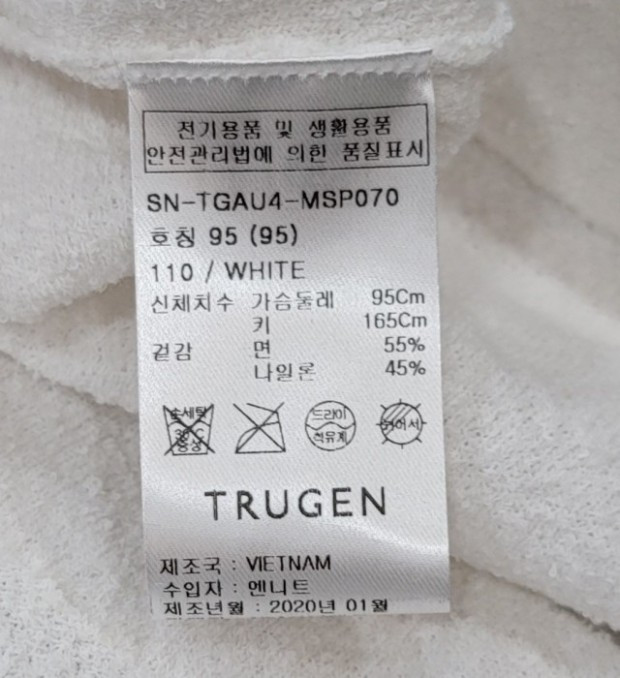KR_dry_clean_petroleum: (300, 398, 361, 457)
KR_flat_dry_in_shade: (371, 398, 429, 453)
KR_no_iron: (227, 398, 292, 462)
KR_no_wash: (155, 399, 222, 460)
